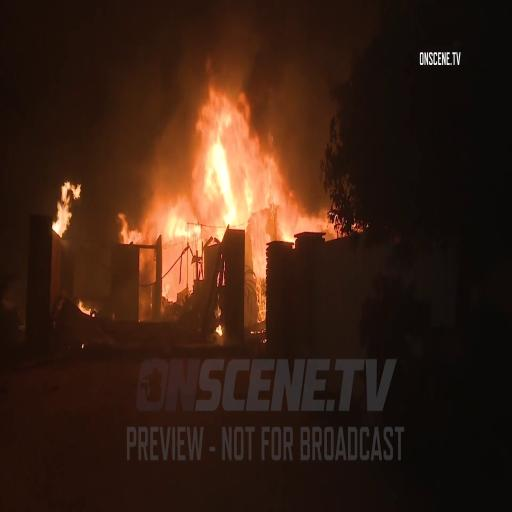fire: (193, 81, 252, 217)
